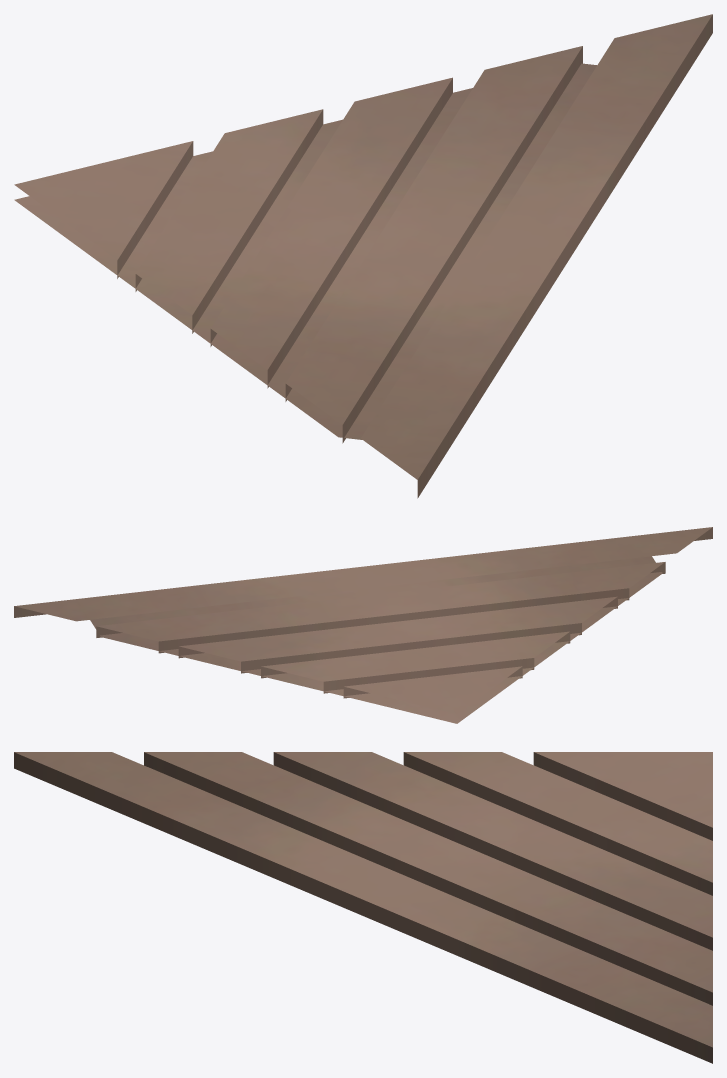
Rendered from Bridge_angle.fbx.
3 views of the same model, one above another, from view 1: azimuth 30°, elevation 25°; view 2: azimuth 150°, elevation 25°; view 3: azimuth 270°, elevation 25° (orthographic). The views are drawn at different scales.
Visible parts, largest first — view 1: Bridge_Angle; view 2: Bridge_Angle; view 3: Bridge_Angle.
Boxes of the visible parts, left/top/right/bottom form: Bridge_Angle: left=14, top=14, right=712, bottom=498; Bridge_Angle: left=14, top=527, right=712, bottom=723; Bridge_Angle: left=14, top=752, right=712, bottom=1063.
Bounding box in the file's own units: 7.71 × 0.1985 × 7.71.
Materials: 1 (1 with a texture image).
